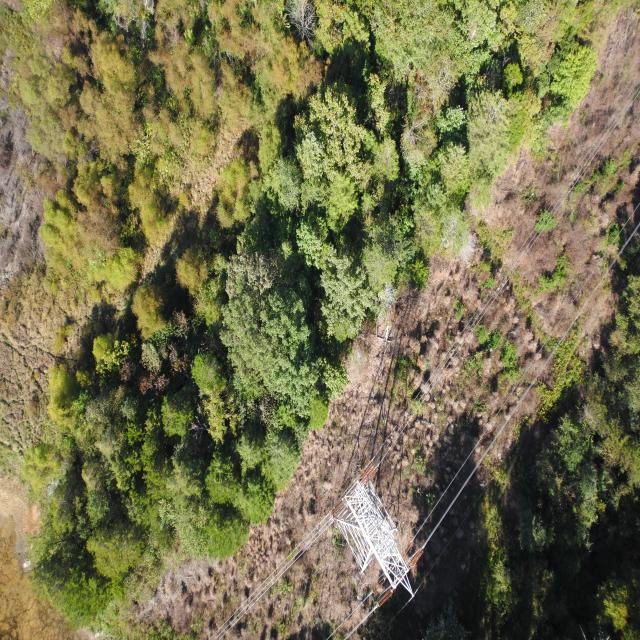Area of Interest: (35, 4, 442, 602)
